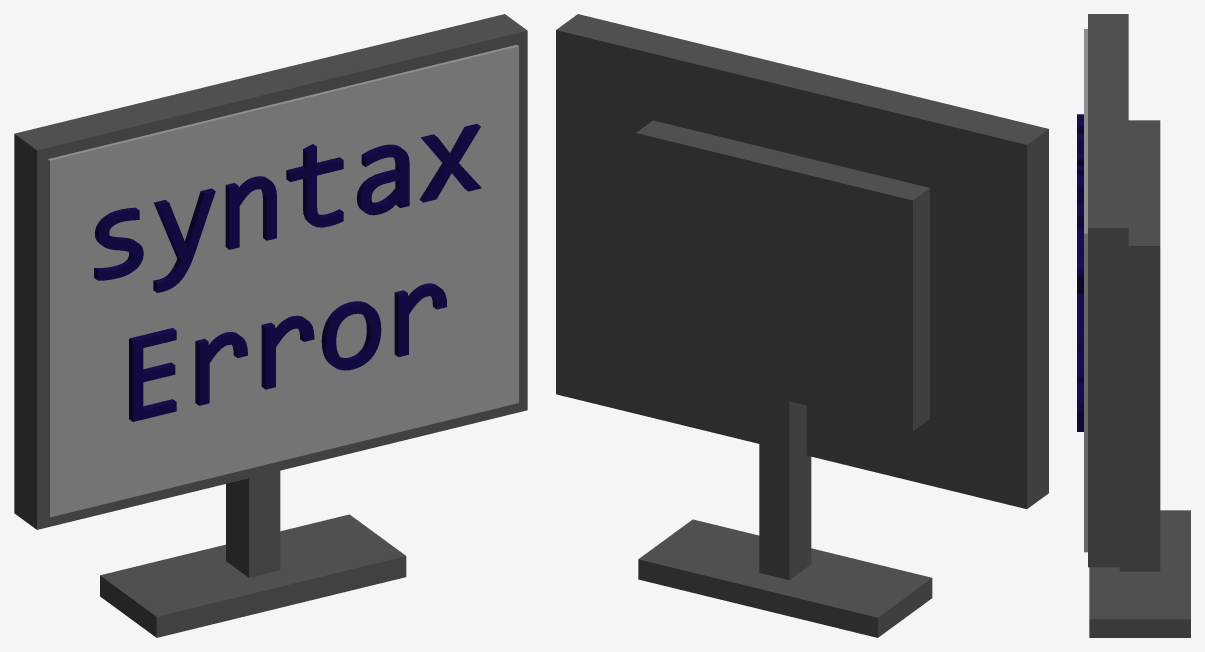
Rendered from computer.fbx.
3 views of the same model, side by side, from view 1: azimuth 30°, elevation 25°; view 2: azimuth 150°, elevation 25°; view 3: azimuth 270°, elevation 25° (orthographic). The views are drawn at different scales.
Parts seen in each view (by area): view 1: node_id7 (×2), node_id35 (×2); view 2: node_id7; view 3: node_id7 (×2), node_id35 (×2).
Boxes of the visible parts, x1,y1,x2,y2 form: node_id7 (×2): (14, 14, 527, 637); node_id35 (×2): (94, 124, 481, 421); node_id7: (556, 14, 1048, 637); node_id7 (×2): (1084, 14, 1190, 637); node_id35 (×2): (1077, 114, 1083, 431).
Size of the model in its own units: 0.5079 by 0.512 by 0.1142.
